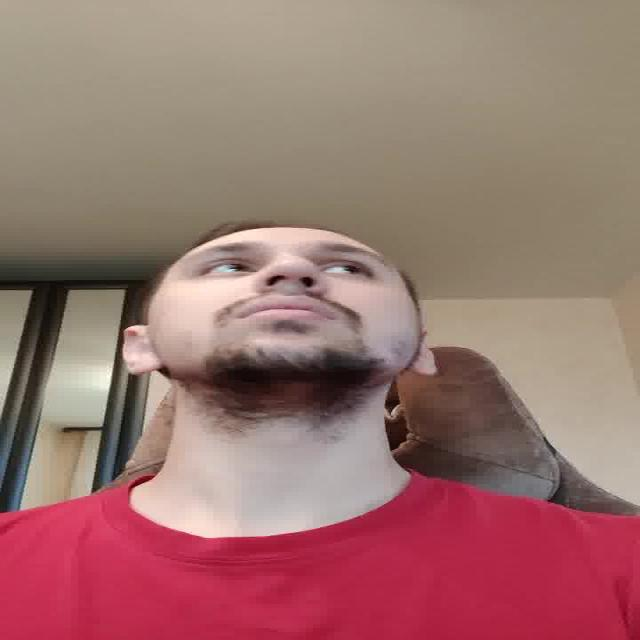earlobe: (130, 360, 163, 376), (406, 361, 440, 376)
eye: (205, 260, 257, 277), (322, 263, 372, 278)
nose: (256, 282, 326, 299)
wholeear: (122, 325, 164, 376), (406, 328, 439, 377)
